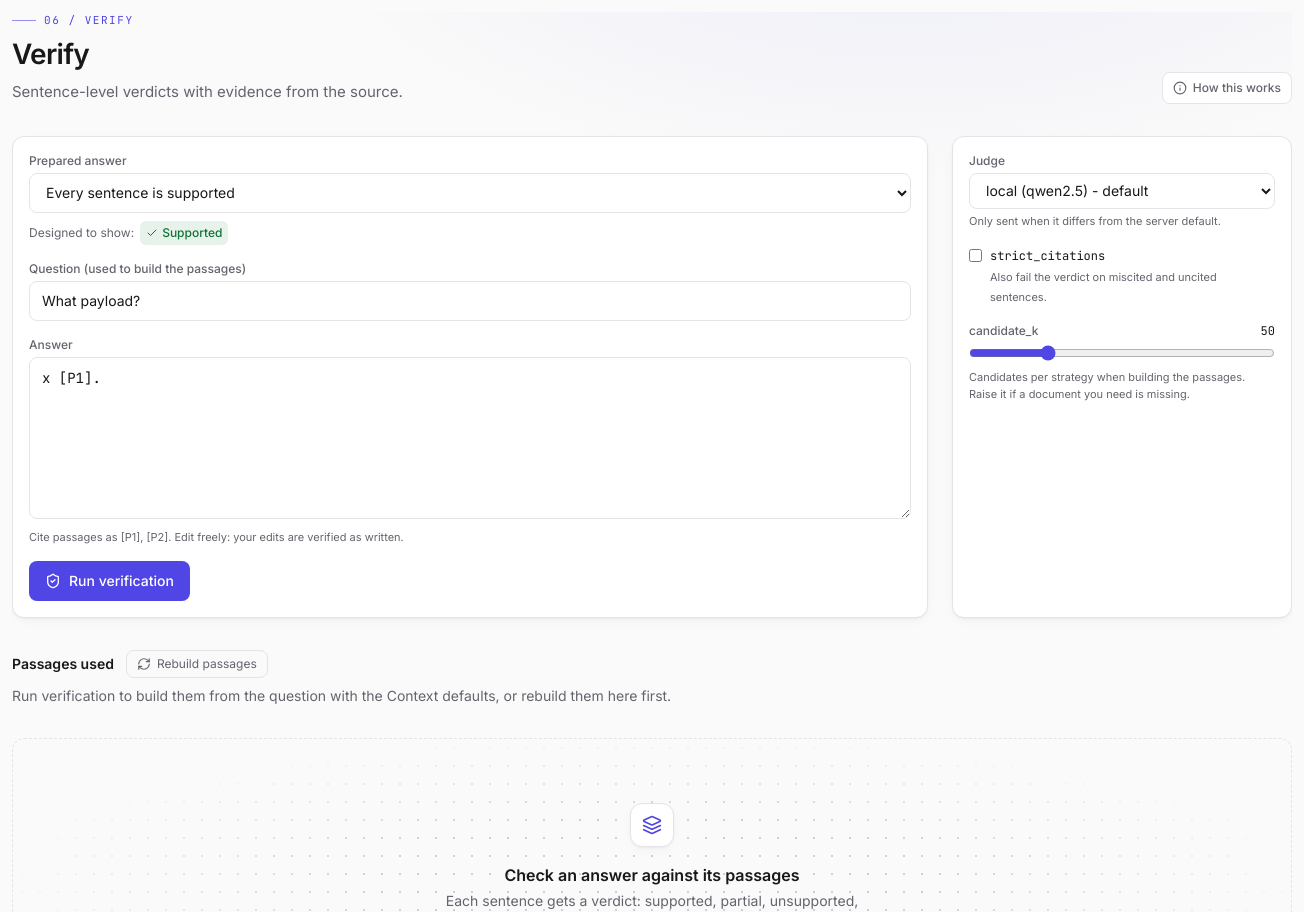
Test: VerifyPage › shows_the_server_message_for_a_400
Select "Wrong number plus a wrong-robot claim" in the dropdown labelled "Prepared answer": (470, 193) [29,173,911,213]
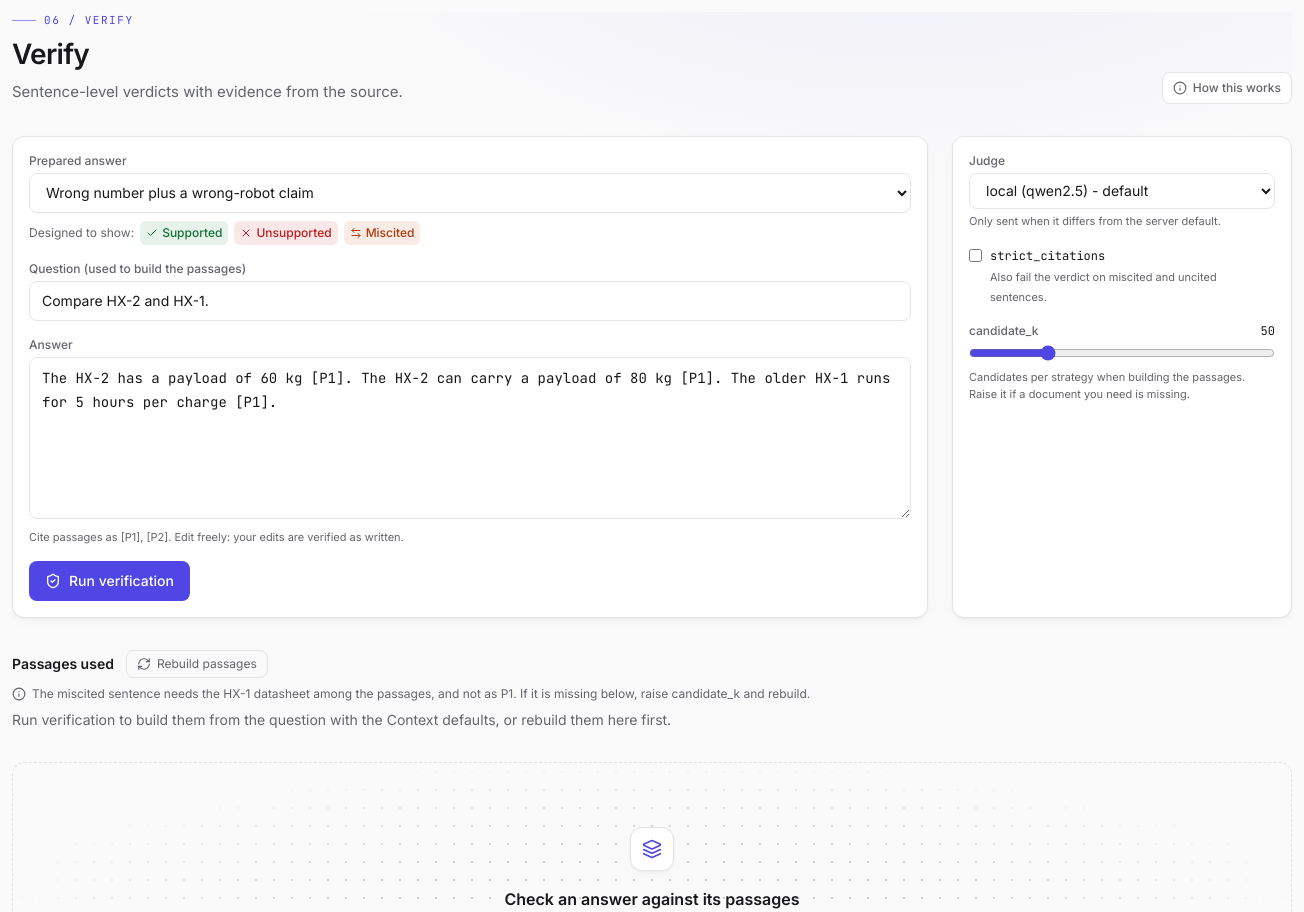
Click the button "Run verification": (109, 581) [29,561,190,601]
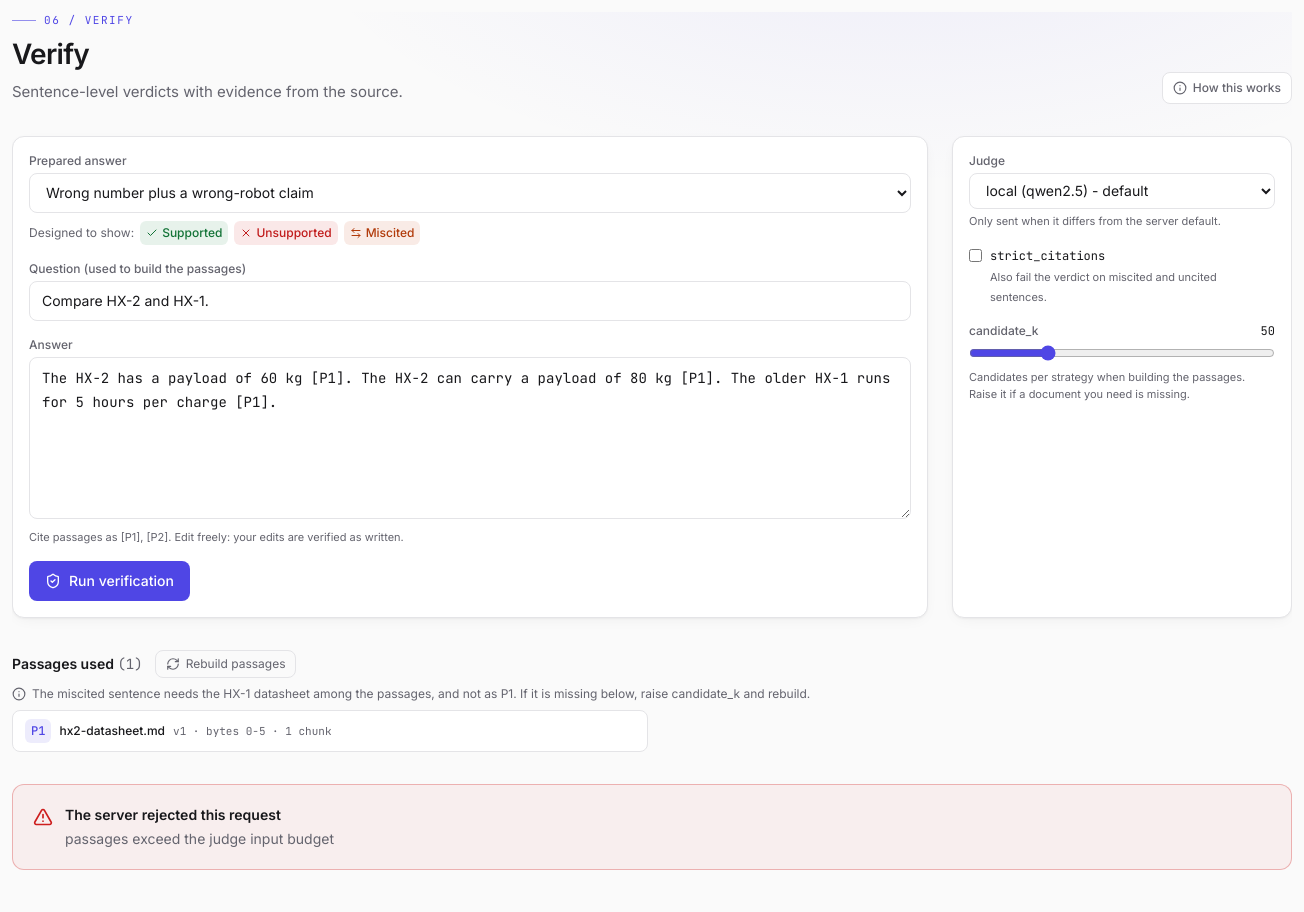
Expected: the message shows "passages exceed the judge input budget", [65,830,334,847]
